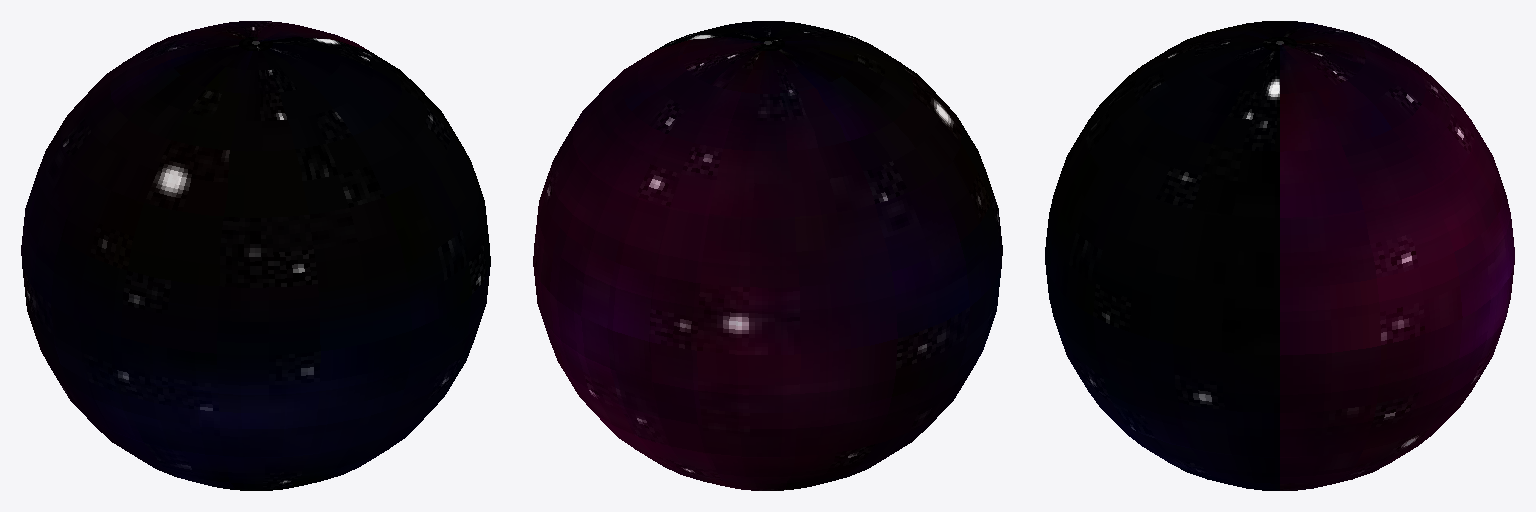
3 renders of one model, left to right at view 1: azimuth 30°, elevation 25°; view 2: azimuth 150°, elevation 25°; view 3: azimuth 270°, elevation 25°, orthographic.
Visible parts, largest first — view 1: 球; view 2: 球; view 3: 球.
Boxes of the visible parts, <box> form: 球: <box>21,21,490,490</box>; 球: <box>533,21,1002,490</box>; 球: <box>1045,21,1514,490</box>.
Size of the model in its own units: 2 by 2 by 2.
Materials: 1 (1 with a texture image).